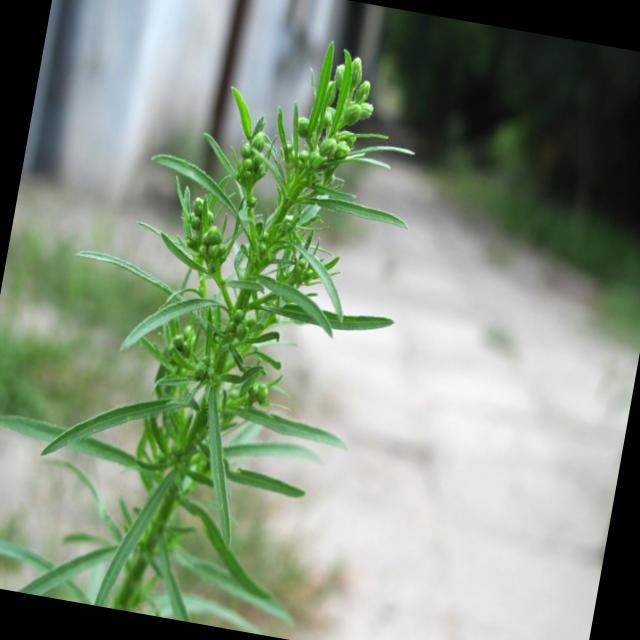ambrosia: (85, 19, 418, 592)
